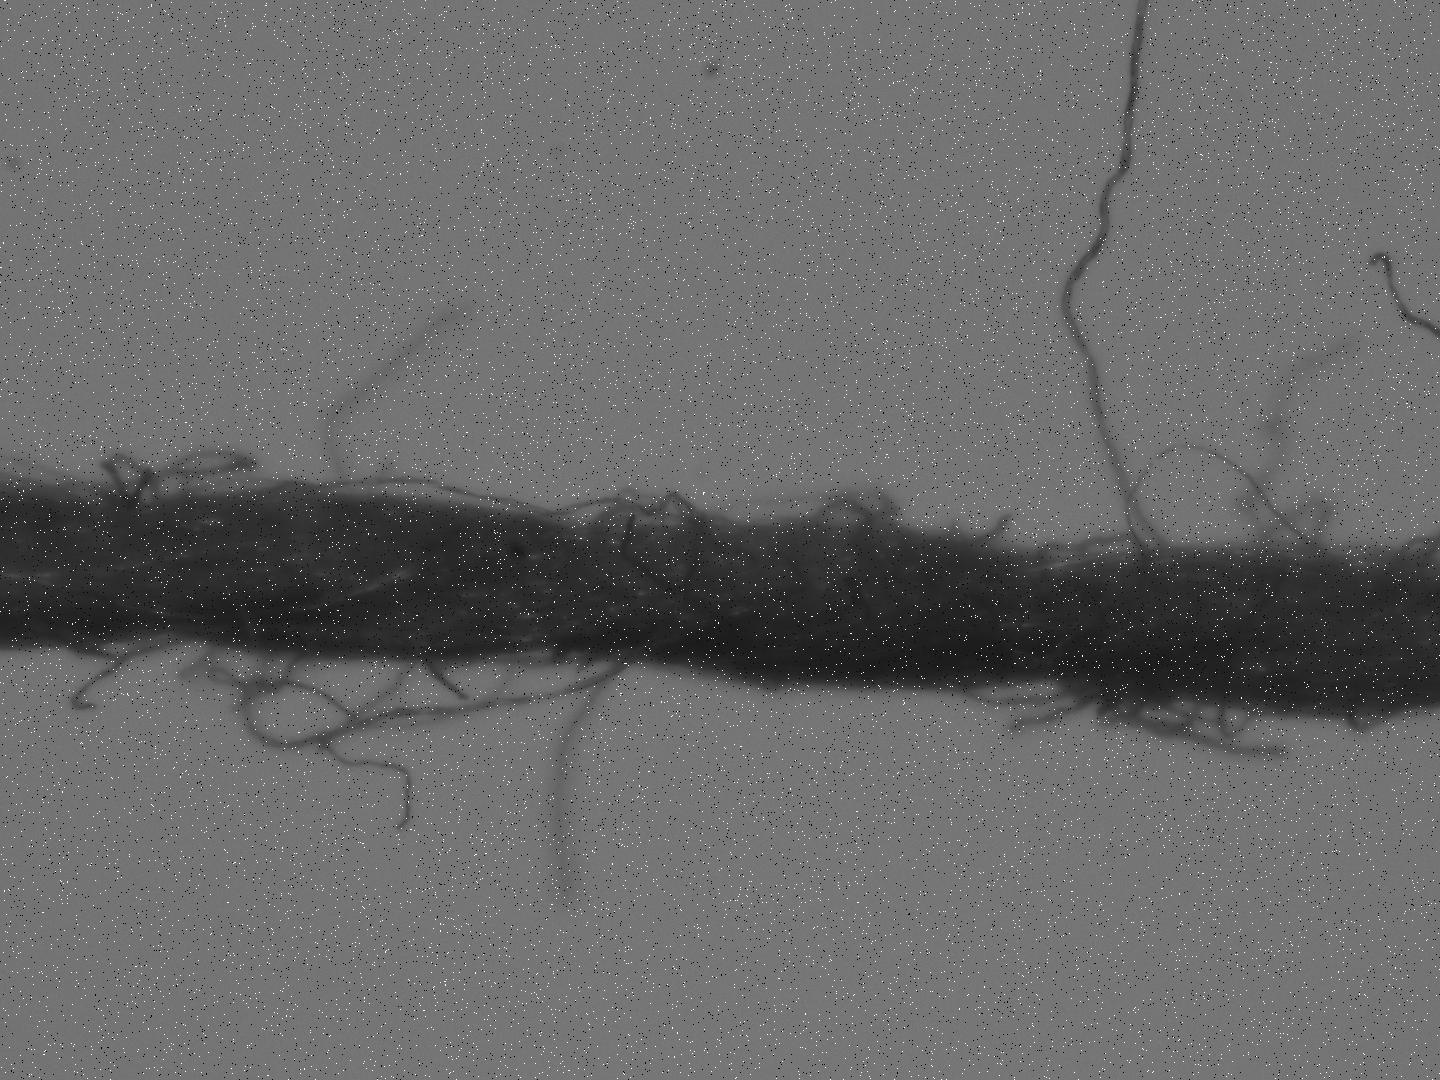loop_fiber: (192, 639, 626, 752), (1119, 440, 1350, 562), (184, 476, 552, 530), (956, 680, 1257, 740), (537, 491, 915, 533), (102, 450, 259, 503), (61, 636, 196, 668), (1261, 495, 1332, 547), (1027, 534, 1162, 558)
protruding_fiber: (1058, 2, 1175, 562), (323, 305, 478, 509), (1239, 336, 1361, 564), (552, 661, 641, 902), (327, 653, 417, 838), (1008, 686, 1096, 737)
